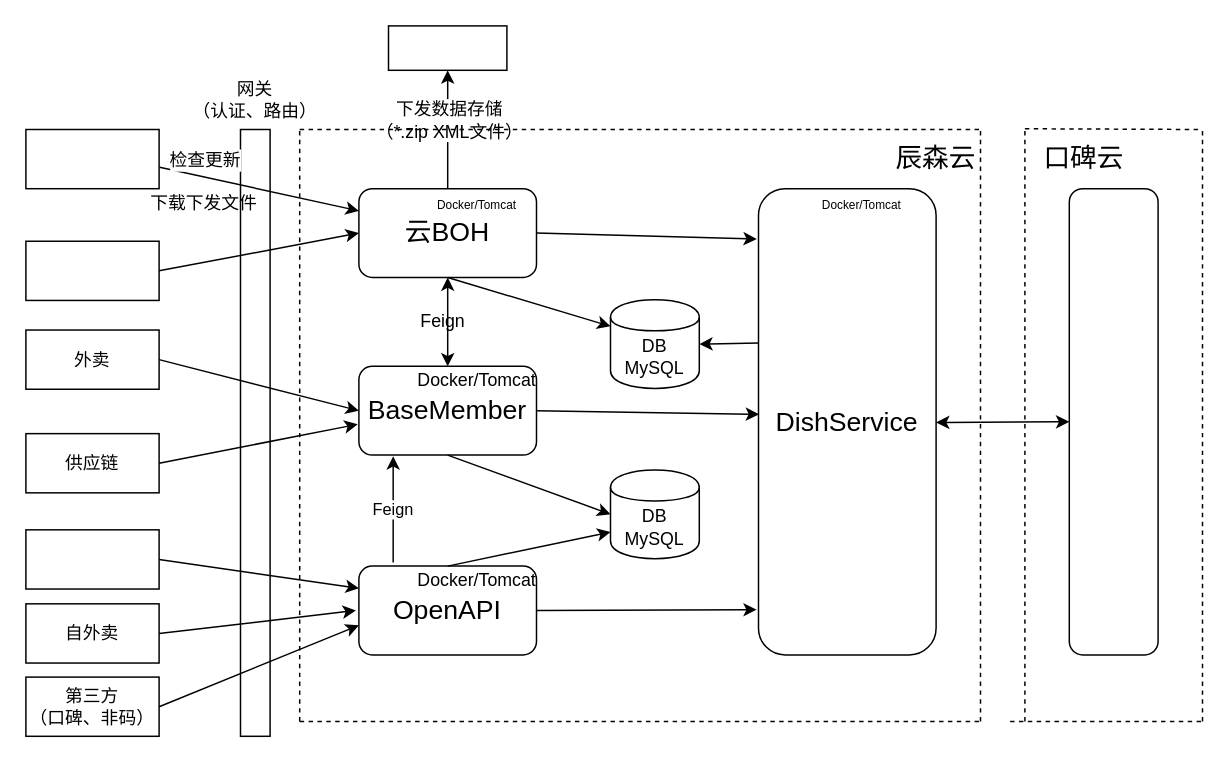
This 1230x762 diagram has some shape labels left out. The centre of each missing label's shape, as x and y in pixels:
PaaS: the point at 1113,421
云BOH Web: the point at 91,270
扫码点餐 小程序: the point at 91,558
门店POS、HHT: the point at 91,158
阿里OSS: the point at 447,47
